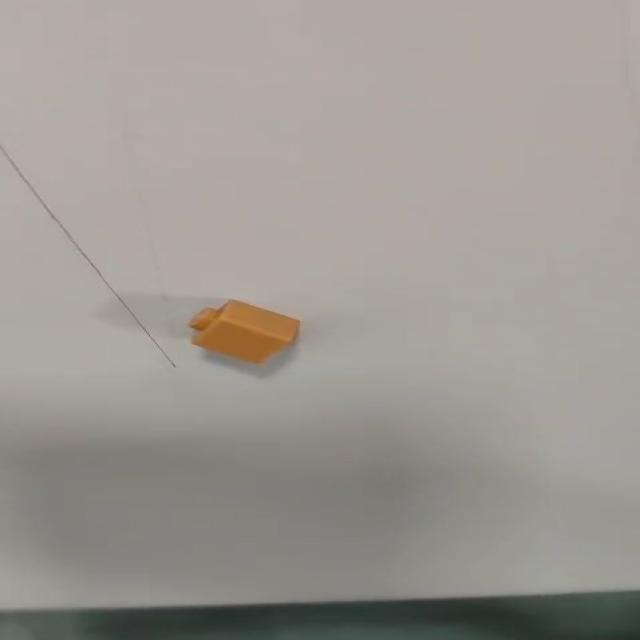C1x1x1: (186, 298, 301, 364)
